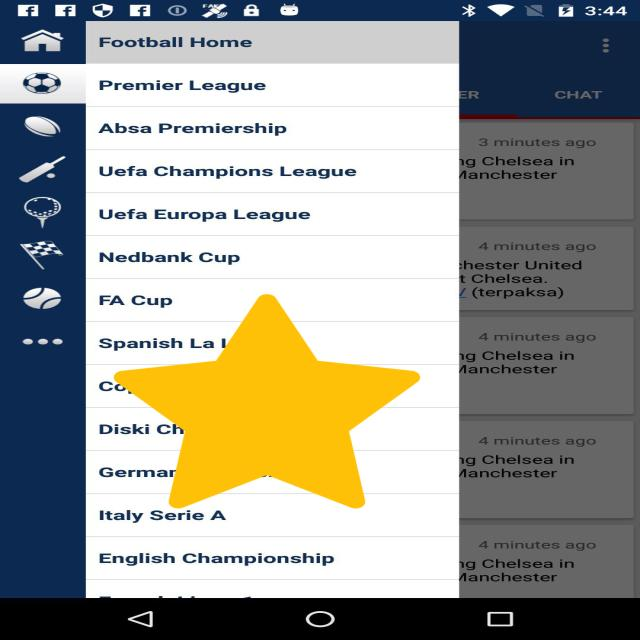forced continuity: (114, 294, 420, 509)
